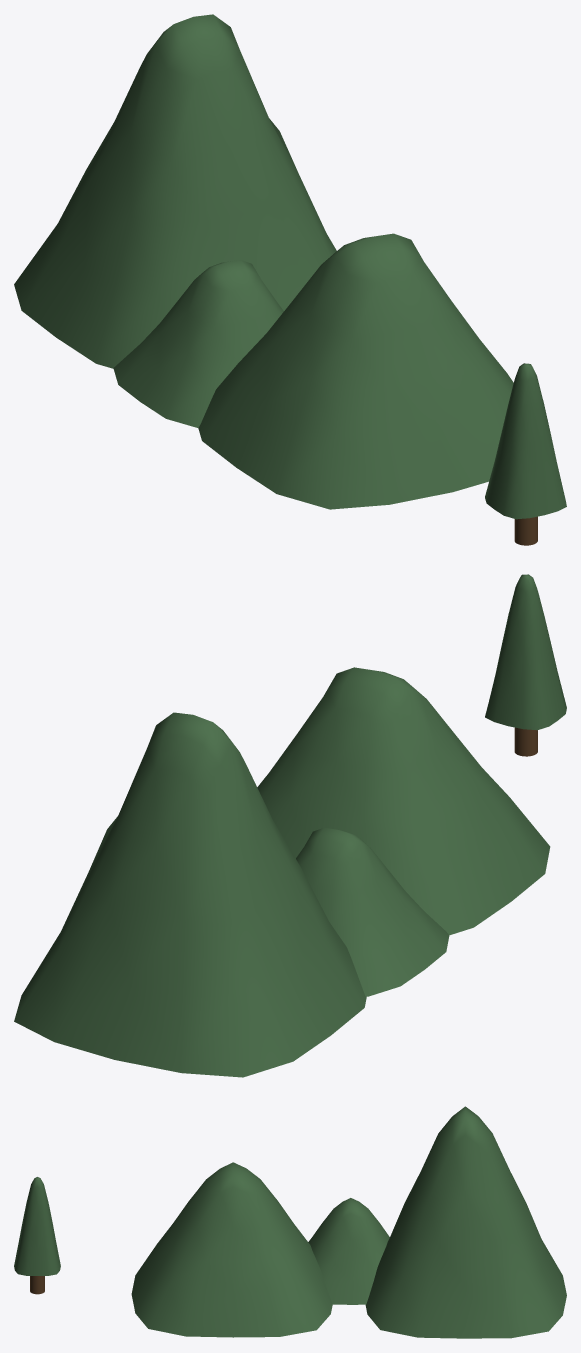
File: OutSideTreeMountain.fbx
The picture shows the model from 3 angles, top to bottom: view 1: azimuth 30°, elevation 25°; view 2: azimuth 150°, elevation 25°; view 3: azimuth 270°, elevation 25°; orthographic projection. The views are drawn at different scales.
Parts seen in each view (by area): view 1: pCube4, pCube2, pCube3, pCube1; view 2: pCube4, pCube2, pCube3, pCube1, pCylinder1; view 3: pCube4, pCube2, pCube3, pCube1.
Boxes of the visible parts, x1=… form: pCube4: x1=14, y1=14, x2=336, y2=368; pCube2: x1=198, y1=233, x2=513, y2=509; pCube3: x1=113, y1=260, x2=283, y2=427; pCube1: x1=485, y1=363, x2=566, y2=519; pCube4: x1=14, y1=712, x2=366, y2=1077; pCube2: x1=257, y1=667, x2=550, y2=935; pCube3: x1=296, y1=827, x2=449, y2=996; pCube1: x1=485, y1=574, x2=566, y2=730; pCylinder1: x1=514, y1=727, x2=537, y2=756; pCube4: x1=365, y1=1106, x2=566, y2=1338; pCube2: x1=131, y1=1162, x2=332, y2=1337; pCube3: x1=308, y1=1198, x2=389, y2=1304; pCube1: x1=14, y1=1177, x2=60, y2=1275.
Size of the model in its own units: 9.11 by 8.94 by 24.26.
